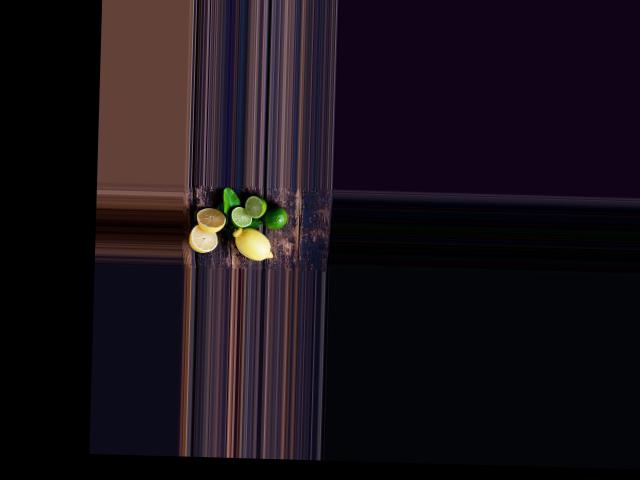lemon: (230, 224, 275, 262)
